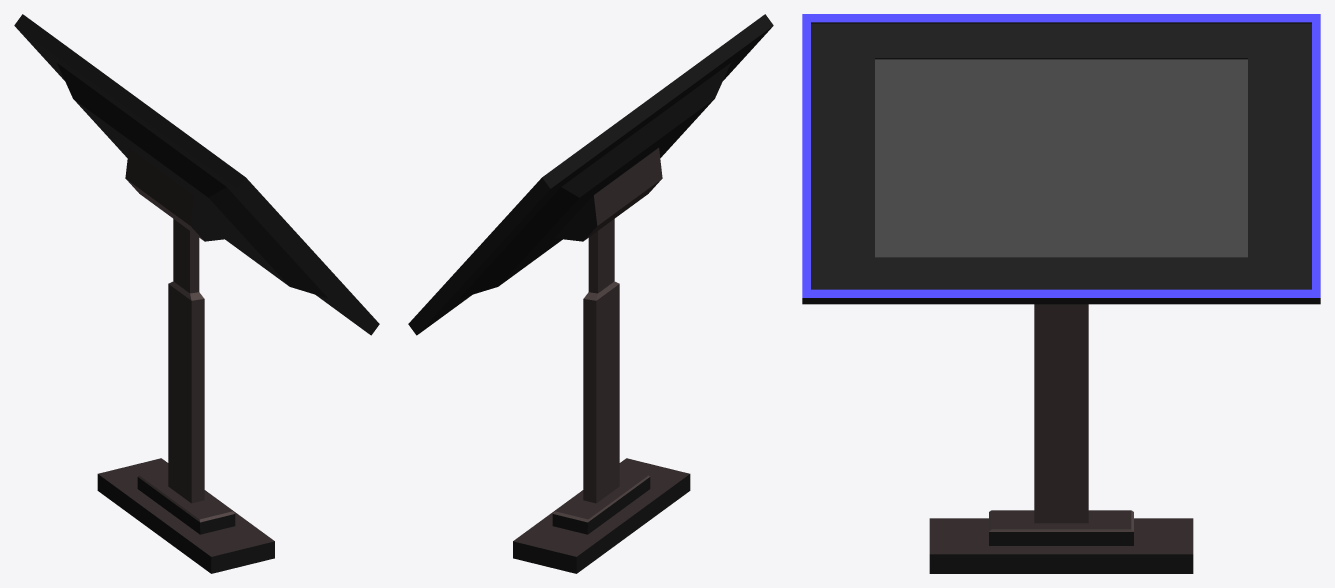
The picture shows the model from 3 angles, left to right: view 1: azimuth 30°, elevation 25°; view 2: azimuth 150°, elevation 25°; view 3: azimuth 270°, elevation 25°; orthographic projection. The views are drawn at different scales.
Parts seen in each view (by area): view 1: Screen; view 2: Screen; view 3: Screen.
Part boxes in pixels (x1=…): Screen: x1=14, y1=14, x2=379, y2=573; Screen: x1=408, y1=14, x2=773, y2=573; Screen: x1=802, y1=14, x2=1320, y2=573.
Size of what is drawn, in the model's own units: 0.4409 by 1.31 by 1.2.
Materials: 1 (1 with a texture image).
